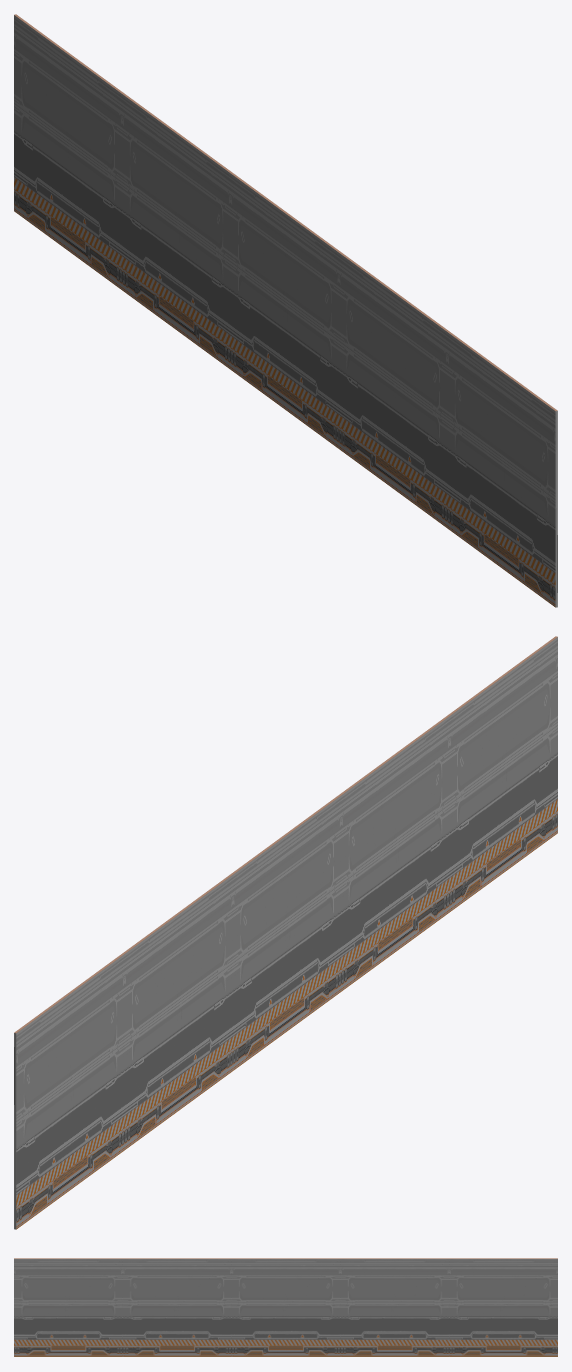
File: Pfb_JALB_WallPart2_Line__40.fbx
The picture shows the model from 3 angles, top to bottom: view 1: azimuth 30°, elevation 25°; view 2: azimuth 150°, elevation 25°; view 3: azimuth 270°, elevation 25°; orthographic projection. The views are drawn at different scales.
Parts seen in each view (by area): view 1: MAT_JLABWall03; view 2: MAT_JLABWall03; view 3: MAT_JLABWall03.
Part boxes in pixels (bbox=[...]): MAT_JLABWall03: bbox=[14, 14, 557, 607]; MAT_JLABWall03: bbox=[14, 636, 557, 1229]; MAT_JLABWall03: bbox=[14, 1258, 557, 1356].
Size of the model in its own units: 0.0488 by 4 by 20.
1 material, 1 textured.
